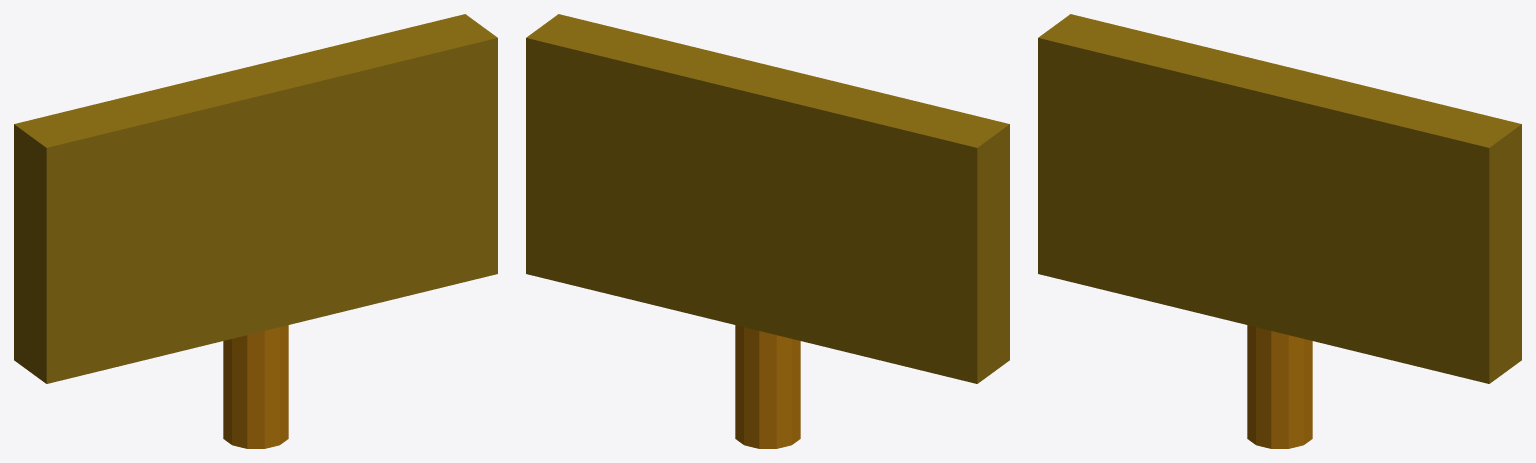
The model's file is Sign_Post.obj.
3 views of the same model, side by side, from view 1: azimuth 30°, elevation 25°; view 2: azimuth 150°, elevation 25°; view 3: azimuth 330°, elevation 25° (orthographic).
Visible parts, largest first — view 1: cylinder; view 2: cylinder; view 3: cylinder.
Boxes of the visible parts, <box> form: cylinder: <box>14,14,497,448</box>; cylinder: <box>526,14,1009,448</box>; cylinder: <box>1038,14,1521,448</box>.
Size of the model in its own units: 1 by 0.75 by 0.125.
